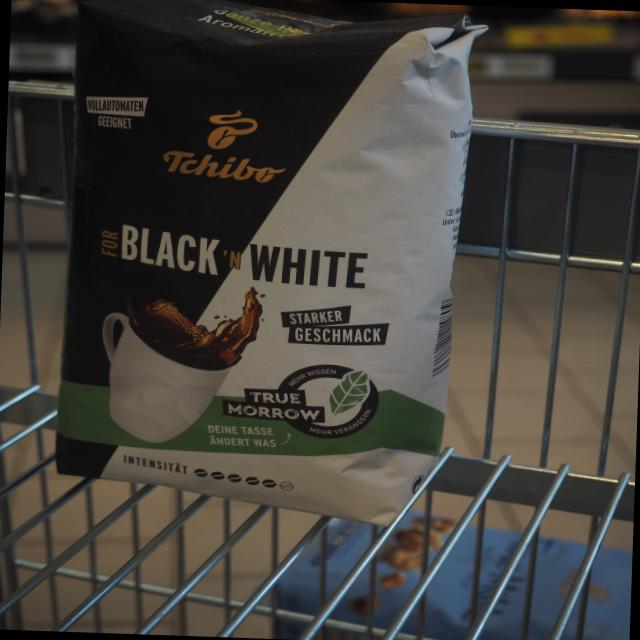BW Bohne: (49, 0, 496, 550)
